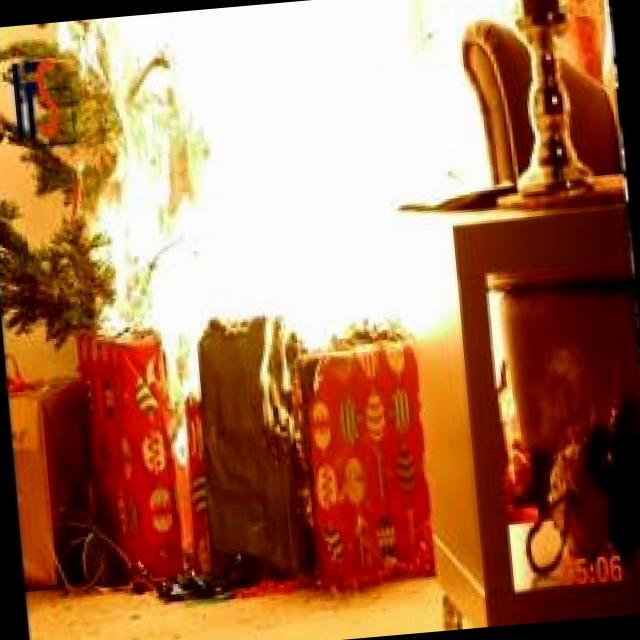fire: (43, 0, 573, 393)
